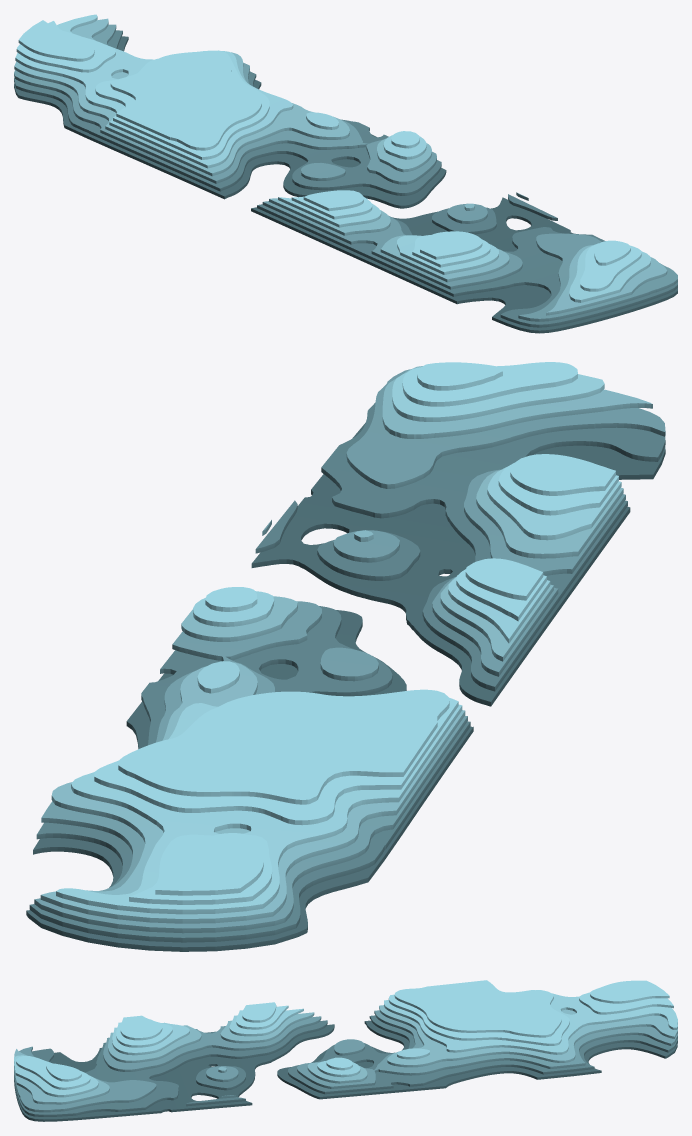
The model's file is RecorridoConstitucion.gltf.
The picture shows the model from 3 angles, top to bottom: view 1: azimuth 30°, elevation 25°; view 2: azimuth 150°, elevation 25°; view 3: azimuth 270°, elevation 25°; orthographic projection. The views are drawn at different scales.
Parts seen in each view (by area): view 1: MarcadoConstitucion; view 2: MarcadoConstitucion; view 3: MarcadoConstitucion.
Boxes of the visible parts, box(x1,y1,x2,y2) form: MarcadoConstitucion: box(14, 14, 677, 333); MarcadoConstitucion: box(26, 362, 665, 951); MarcadoConstitucion: box(14, 980, 677, 1121).
Size of the model in its own units: 2.16 by 0.2682 by 5.13.
Materials: 1 (1 with a texture image).
